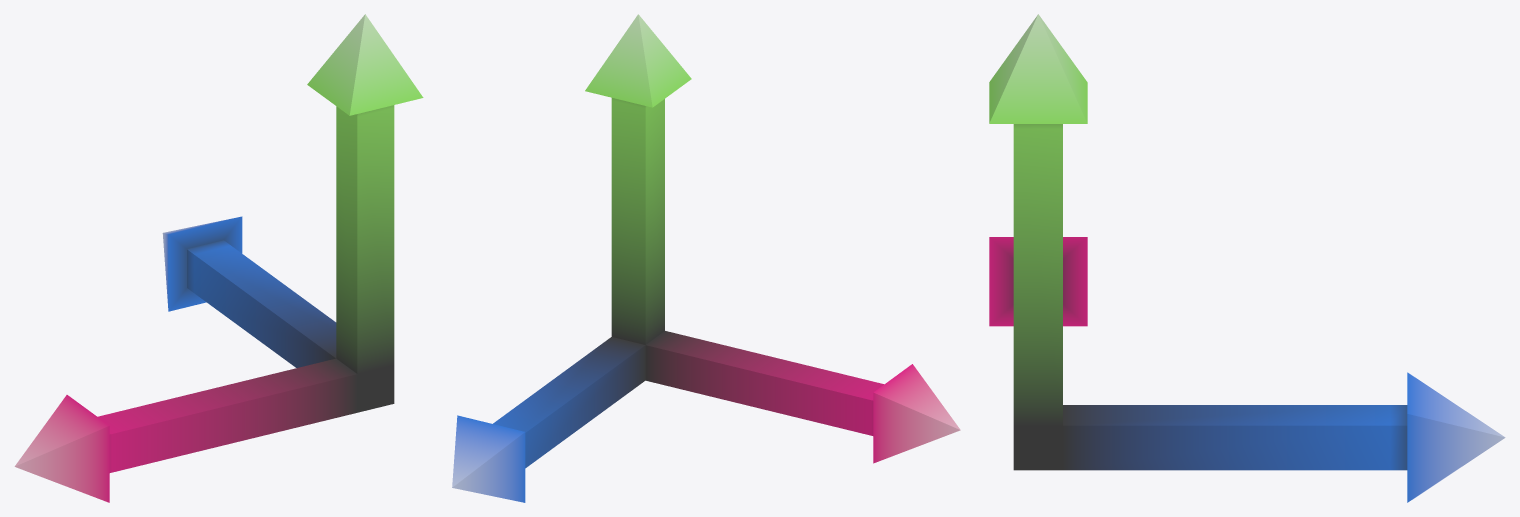
File: ThreeAxis.glb
3 renders of one model, left to right at view 1: azimuth 30°, elevation 25°; view 2: azimuth 150°, elevation 25°; view 3: azimuth 270°, elevation 25°, orthographic. The views are drawn at different scales.
Parts seen in each view (by area): view 1: Cube; view 2: Cube; view 3: Cube.
Boxes of the visible parts, left/top/right/bottom form: Cube: left=14, top=14, right=423, bottom=502; Cube: left=452, top=14, right=960, bottom=502; Cube: left=989, top=14, right=1505, bottom=502.
Bounding box in the file's own units: 1.1 × 1.1 × 1.1.
